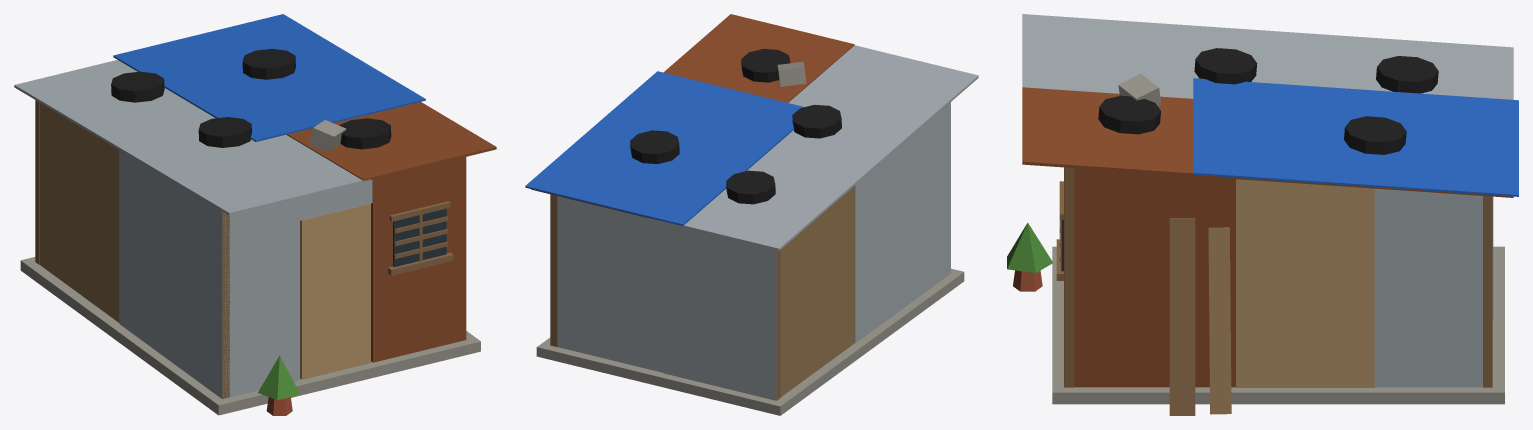
Rendered from BAY_I_TinShack_E.glb.
3 views of the same model, side by side, from view 1: azimuth 30°, elevation 25°; view 2: azimuth 150°, elevation 25°; view 3: azimuth 270°, elevation 25° (orthographic). The views are drawn at different scales.
Parts seen in each view (by area): view 1: BAY_I_TinShack_E; view 2: BAY_I_TinShack_E; view 3: BAY_I_TinShack_E.
Part boxes in pixels (box(x1,y1,x2,y2)): BAY_I_TinShack_E: box(14, 14, 496, 415); BAY_I_TinShack_E: box(525, 14, 978, 415); BAY_I_TinShack_E: box(1007, 14, 1518, 415).
Size of the model in its own units: 3.57 by 2.68 by 4.79.
Materials: 1 (1 with a texture image).
